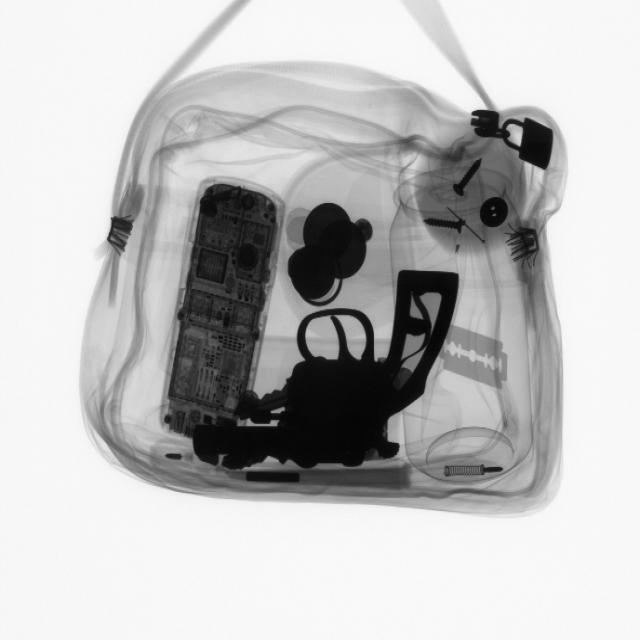BLADE: (440, 324, 513, 394)
GUN: (198, 258, 457, 467)
SCREW: (447, 156, 490, 205), (419, 211, 472, 242)
